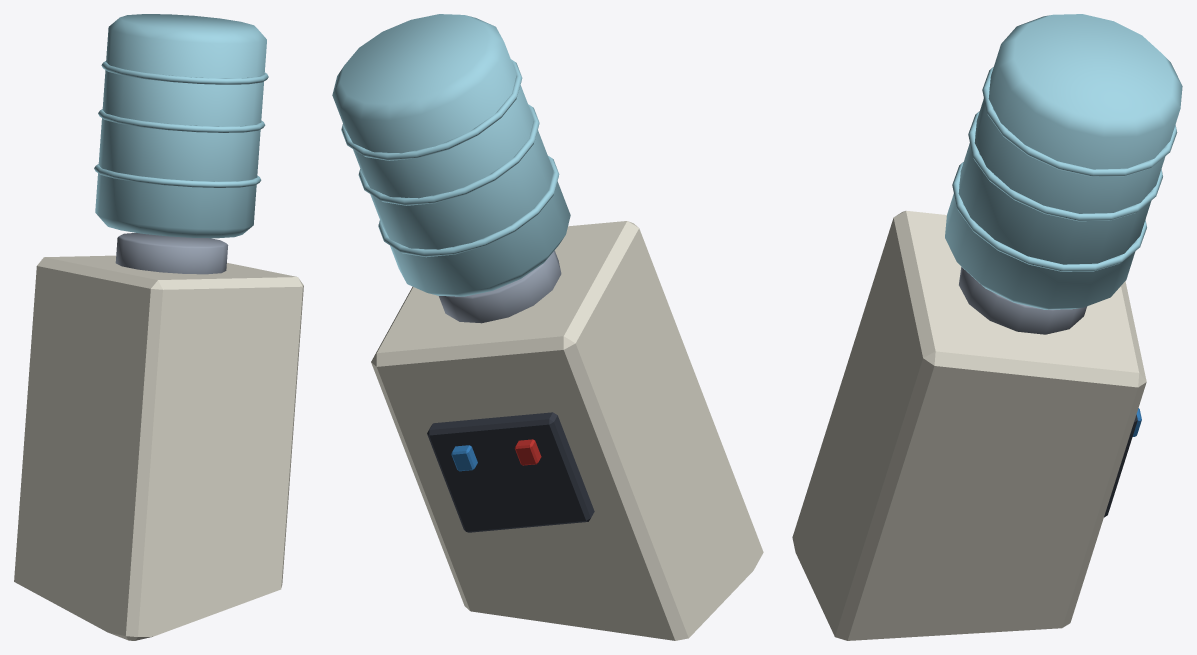
Rendered from noclipped_water_cooler.obj.
3 renders of one model, left to right at view 1: azimuth 30°, elevation 25°; view 2: azimuth 150°, elevation 25°; view 3: azimuth 270°, elevation 25°, orthographic. The views are drawn at different scales.
Visible parts, largest first — view 1: Base, Jug, Collar, JugRib_1.66, JugRib_1.36, JugRib_1.52; view 2: Base, Jug, Recess, Collar, JugRib_1.36, JugRib_1.52, JugRib_1.66; view 3: Base, Jug, Collar, JugRib_1.36, JugRib_1.66, JugRib_1.52.
Boxes of the visible parts, bbox=[...] form: Base: bbox=[14, 255, 303, 640]; Jug: bbox=[95, 14, 266, 238]; Collar: bbox=[115, 233, 228, 274]; JugRib_1.66: bbox=[101, 61, 268, 84]; JugRib_1.36: bbox=[94, 164, 261, 187]; JugRib_1.52: bbox=[98, 109, 265, 132]; Base: bbox=[371, 221, 763, 640]; Jug: bbox=[332, 14, 570, 296]; Recess: bbox=[427, 412, 594, 532]; Collar: bbox=[439, 250, 561, 323]; JugRib_1.36: bbox=[378, 156, 559, 257]; JugRib_1.52: bbox=[358, 104, 539, 205]; JugRib_1.66: bbox=[341, 59, 522, 160]; Base: bbox=[792, 210, 1146, 640]; Jug: bbox=[945, 14, 1182, 309]; Collar: bbox=[959, 267, 1086, 334]; JugRib_1.36: bbox=[952, 162, 1146, 271]; JugRib_1.66: bbox=[982, 67, 1177, 176]; JugRib_1.52: bbox=[968, 111, 1162, 221].
Bounding box in the file's own units: 0.9058 × 1.6 × 0.9393.
